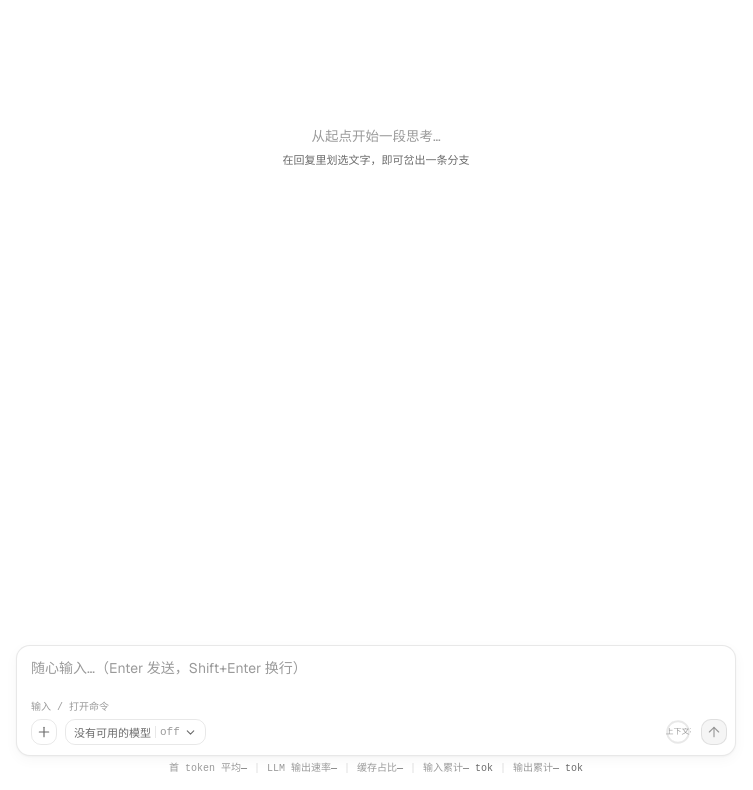
Test: ChatView turn and approval controls › runs /compact and reports when there is nothing to compact
In the dropdown with placeholder "随心输入…（Enter 发送，Shift+Enter 换行）": (379, 675) [31, 654, 727, 696], type "/compact"
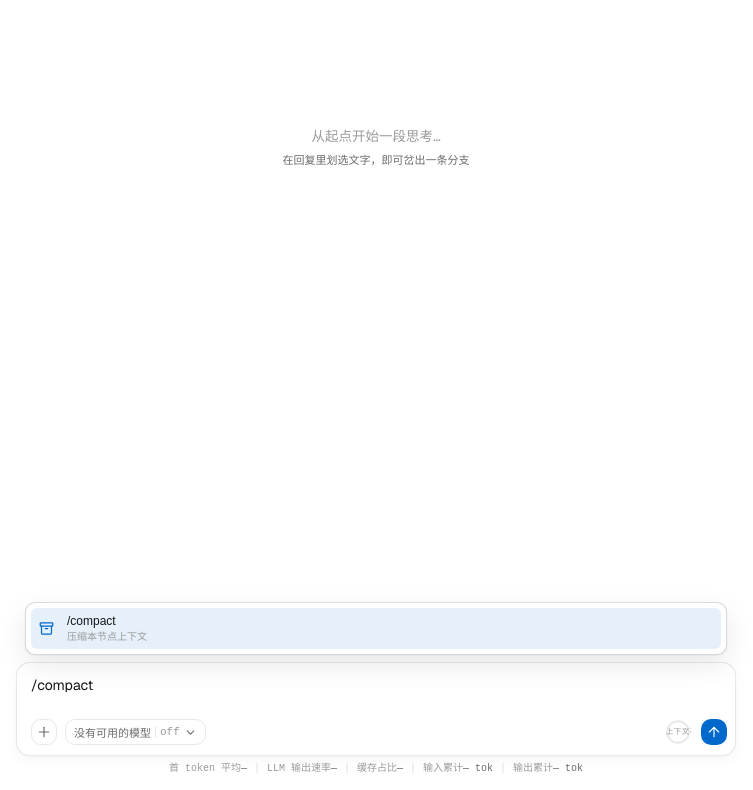
Press Enter in the dropdown with placeholder "随心输入…（Enter 发送，Shift+Enter 换行）", box [31, 671, 727, 713]
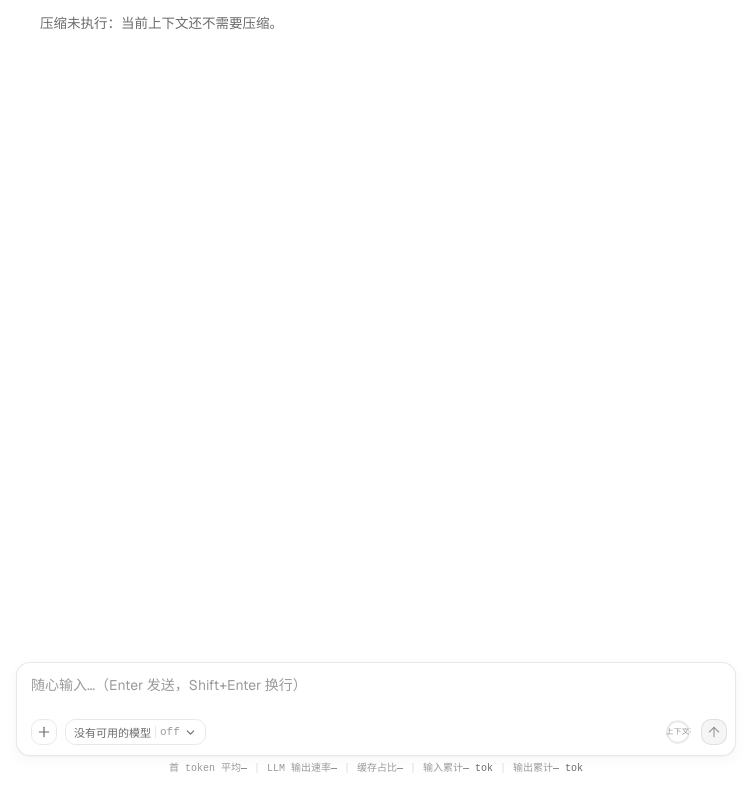
Check: the text "压缩未执行：当前上下文还不需要压缩。" is shown, box [40, 17, 283, 32]
